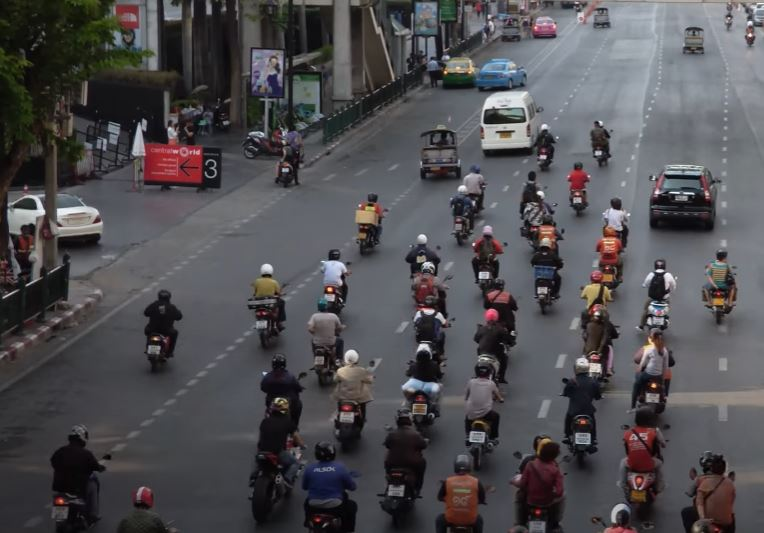Bus: (479, 88, 538, 151)
Car: (648, 161, 721, 232), (477, 56, 530, 88), (442, 53, 477, 88), (533, 15, 558, 40)
Motorcycle: (45, 423, 113, 532), (250, 397, 305, 523), (379, 407, 433, 521), (510, 434, 568, 533), (301, 441, 362, 533), (618, 409, 670, 512), (677, 450, 741, 533), (435, 453, 495, 533), (560, 356, 603, 466), (462, 359, 505, 465), (258, 353, 309, 439), (333, 347, 377, 446), (630, 326, 674, 419), (248, 262, 292, 350), (400, 348, 445, 432), (307, 299, 347, 386), (144, 289, 185, 371), (579, 309, 621, 388), (700, 247, 741, 326), (472, 307, 513, 384), (640, 259, 677, 334), (531, 238, 565, 317), (470, 223, 509, 287), (318, 249, 356, 313), (577, 270, 618, 327), (353, 191, 389, 253), (412, 261, 451, 316), (482, 277, 520, 333), (594, 226, 627, 290), (412, 295, 449, 351), (519, 190, 558, 240), (404, 233, 443, 277), (449, 184, 475, 247), (566, 160, 592, 216), (602, 197, 631, 247), (520, 171, 547, 221), (532, 215, 566, 254), (588, 120, 616, 167), (462, 164, 486, 214), (535, 123, 559, 169)
TukTuk: (681, 25, 706, 56), (593, 6, 611, 29)
